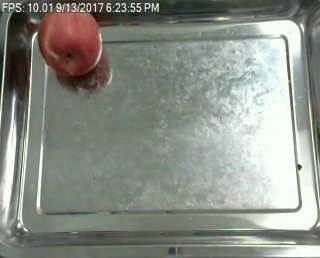Apple: (36, 5, 103, 82)
